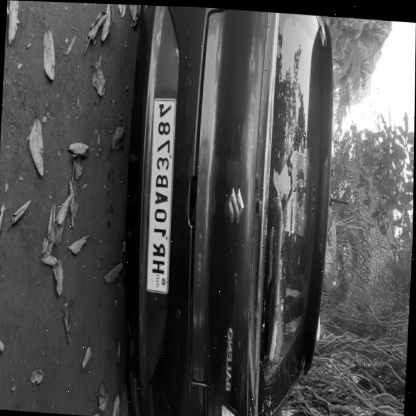car: (205, 189, 414, 416)
